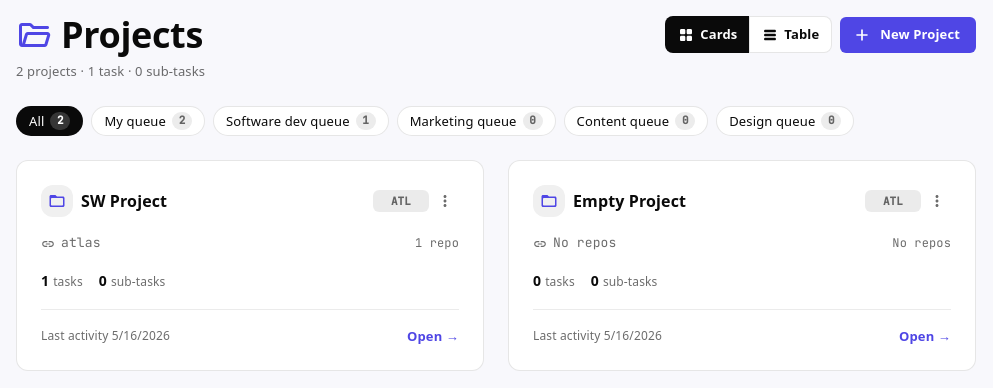
Test: Projects page › renders filter chips correctly for categoriesByProject matches and non-matches
Expected: the heading "SW Project" is shown, x1=81 y1=190 x2=167 y2=213
# Filter to software-dev → only p1 shows
Click the text "Software dev queue": {"x": 288, "y": 121} x1=226 y1=111 x2=350 y2=132
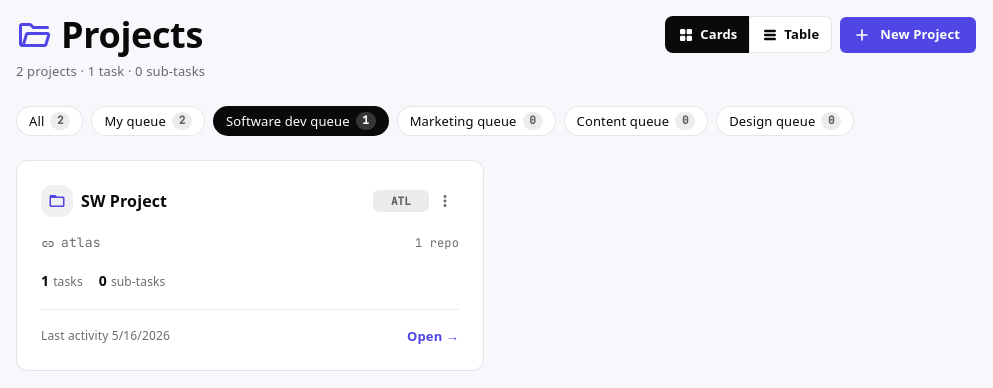
Expected: the heading "SW Project" is shown, x1=81 y1=190 x2=167 y2=213
Expected: the heading "Empty Project" is gone
# Switch back to All → both visible
Click the text "All": {"x": 37, "y": 121} x1=29 y1=111 x2=44 y2=132
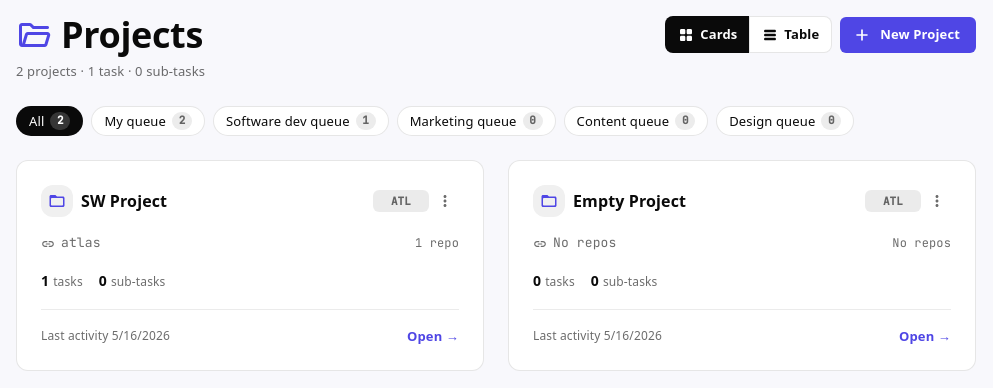
Expected: the heading "Empty Project" is shown, x1=573 y1=190 x2=686 y2=213
